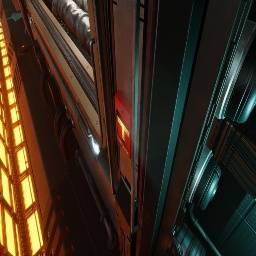FireAlarm ,: (114, 89, 131, 159)
SafetySwitchPanel ,: (12, 0, 21, 12)
